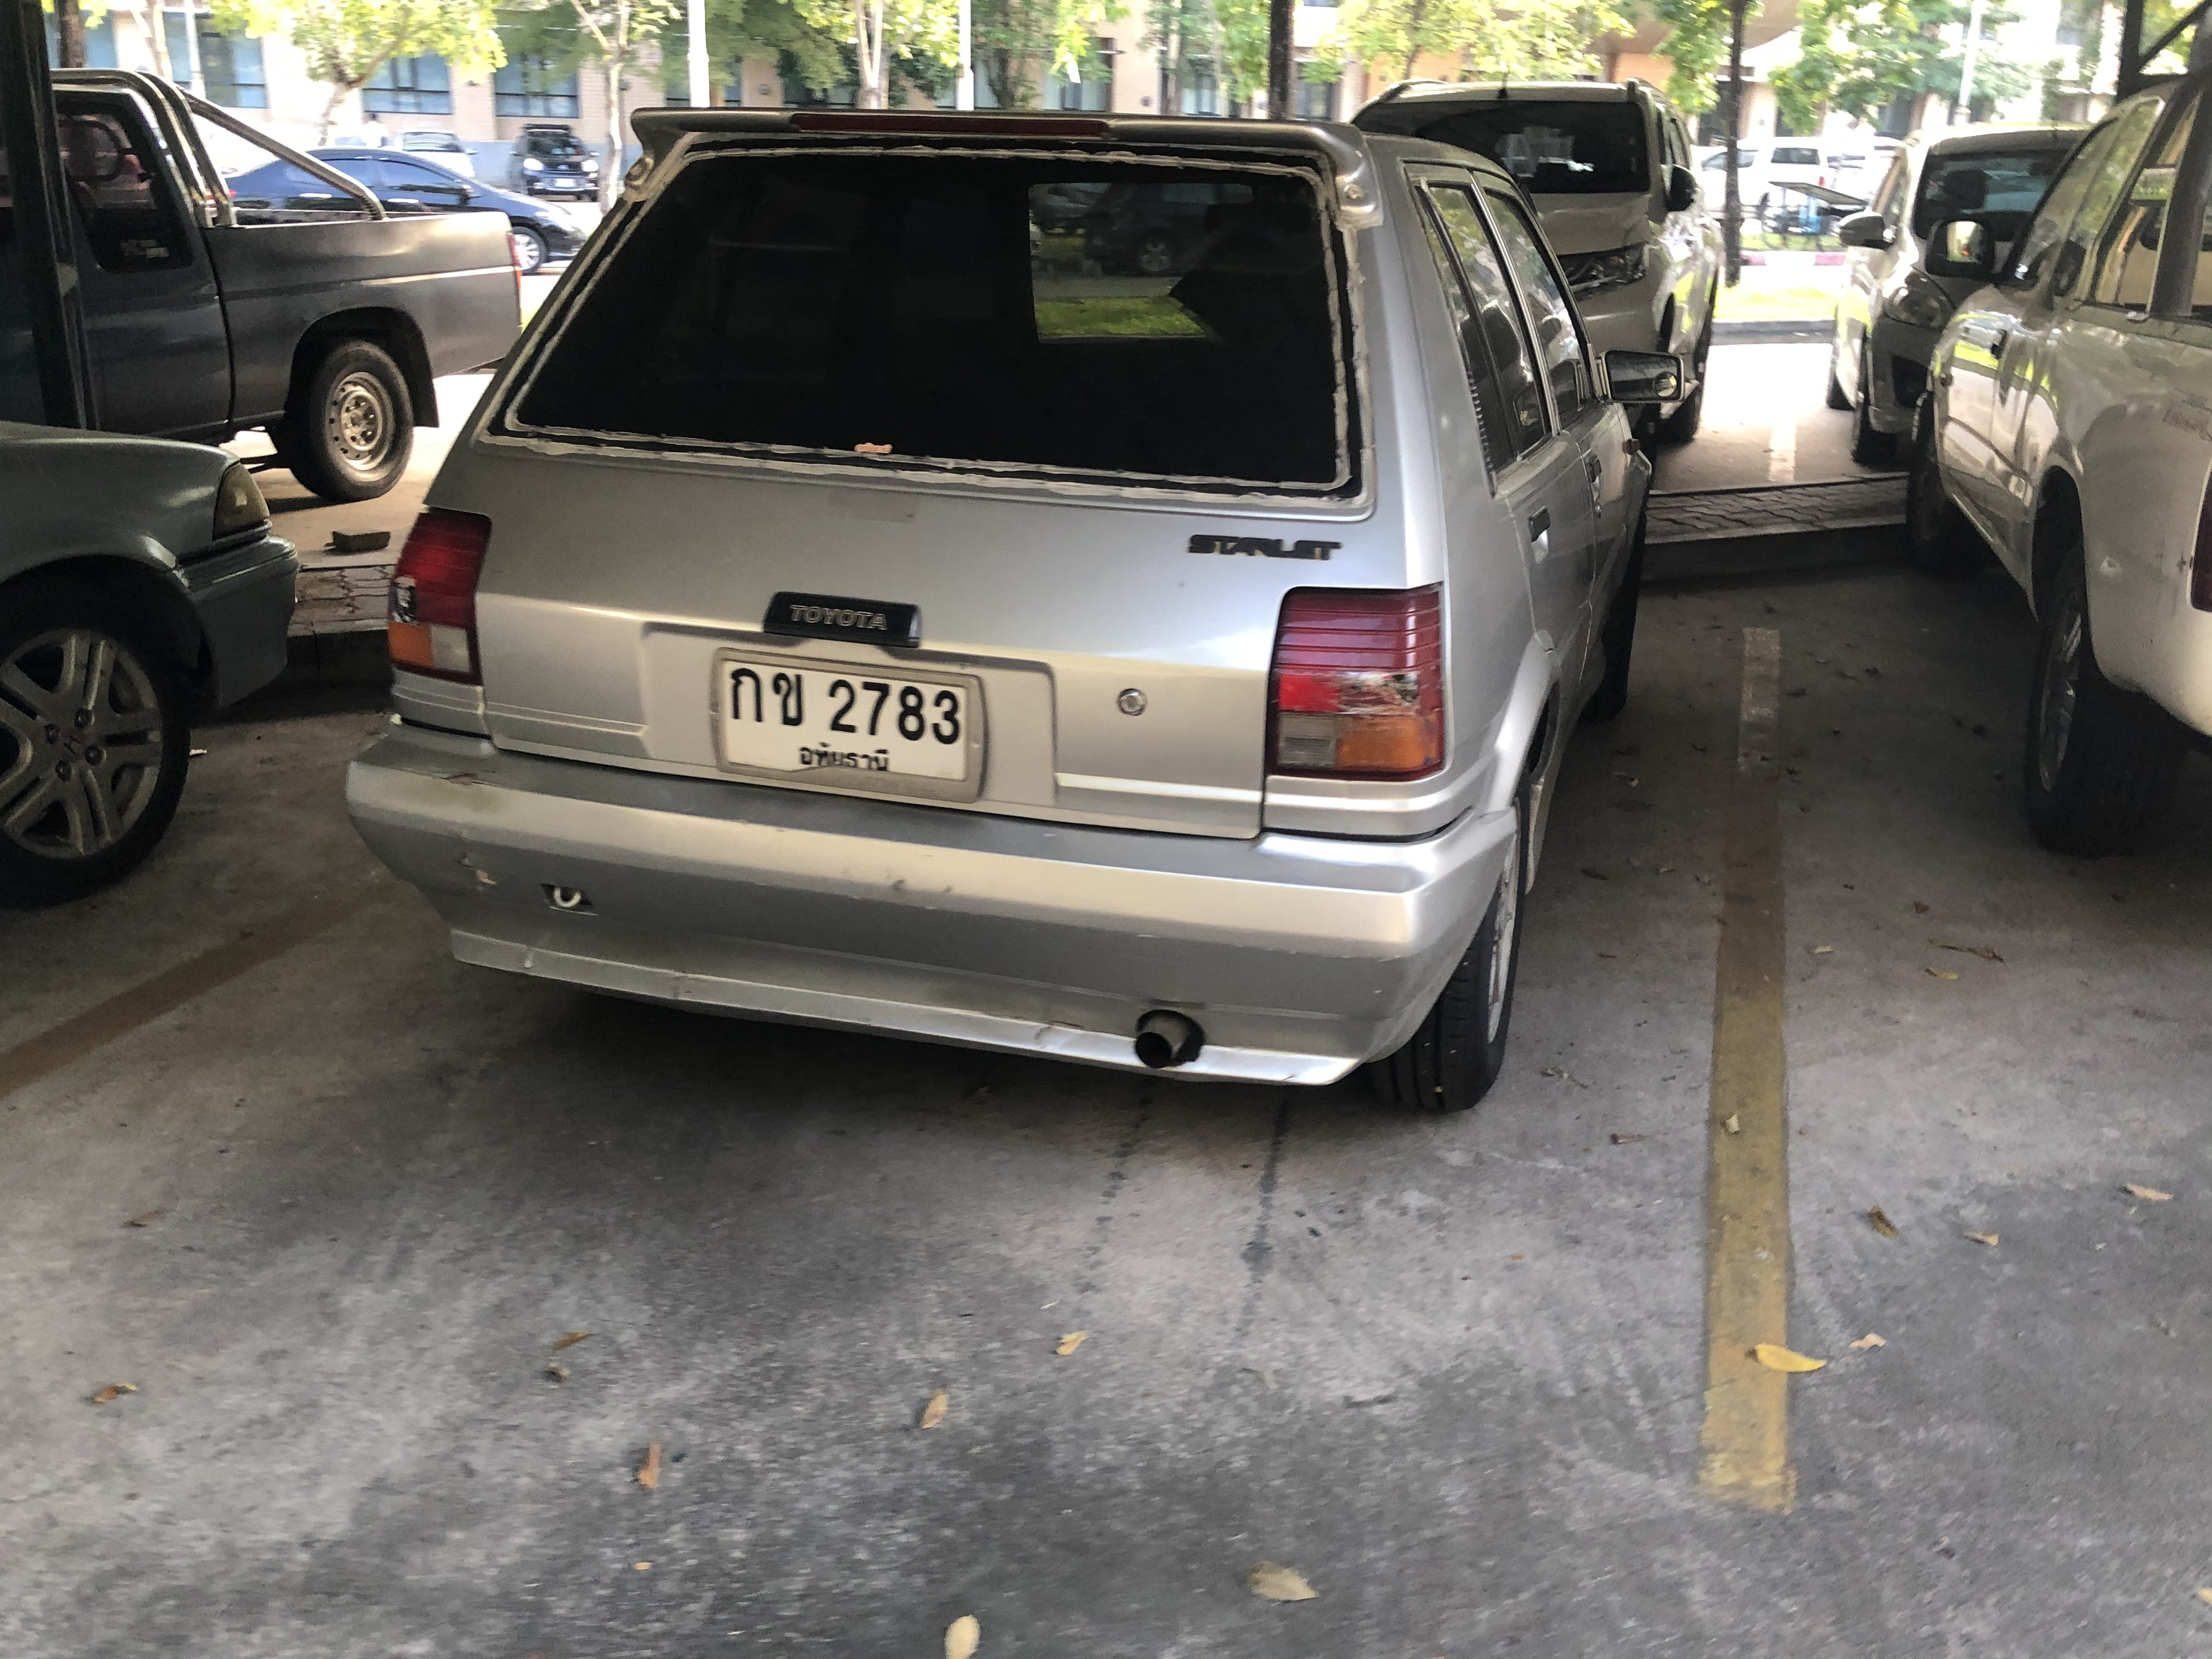in: (725, 662, 967, 784)
out: (714, 648, 982, 809)
